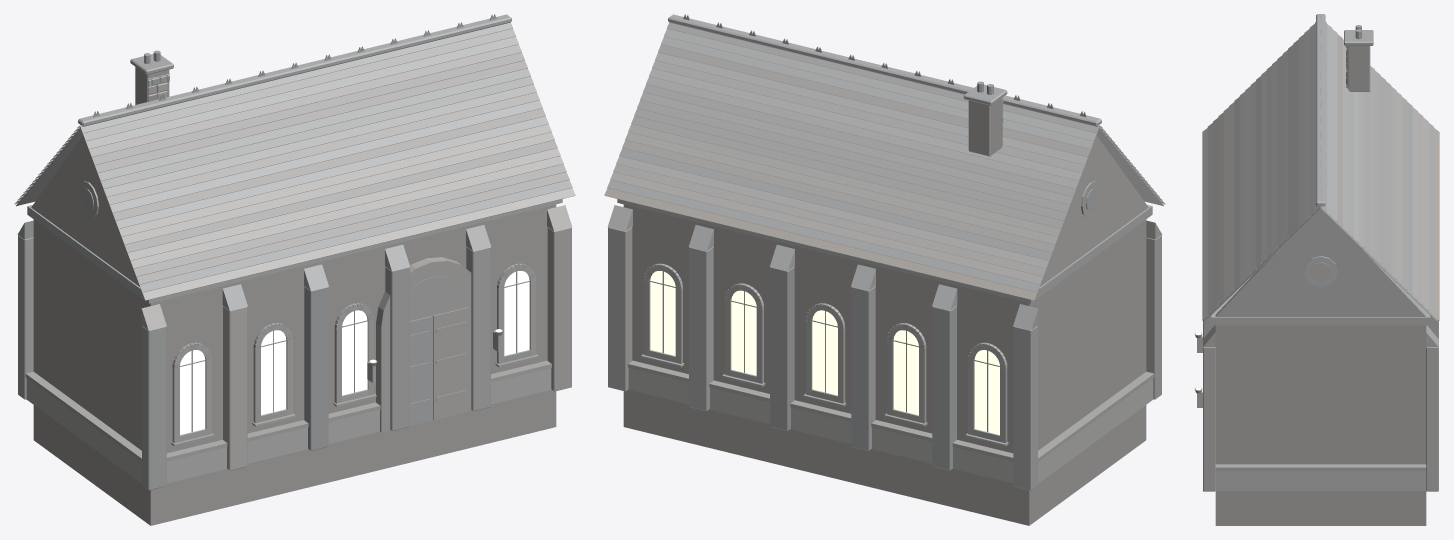
File: hall_stone.glb
The picture shows the model from 3 angles, left to right: view 1: azimuth 30°, elevation 25°; view 2: azimuth 150°, elevation 25°; view 3: azimuth 270°, elevation 25°; orthographic projection. The views are drawn at different scales.
Parts seen in each view (by area): view 1: SM_FK_hall_stone; view 2: SM_FK_hall_stone; view 3: SM_FK_hall_stone.
Part boxes in pixels (x1=…): SM_FK_hall_stone: x1=14, y1=14, x2=575, y2=525; SM_FK_hall_stone: x1=604, y1=14, x2=1165, y2=525; SM_FK_hall_stone: x1=1194, y1=14, x2=1439, y2=525.
Size of the model in its own units: 42.4 by 37.2 by 23.26.
